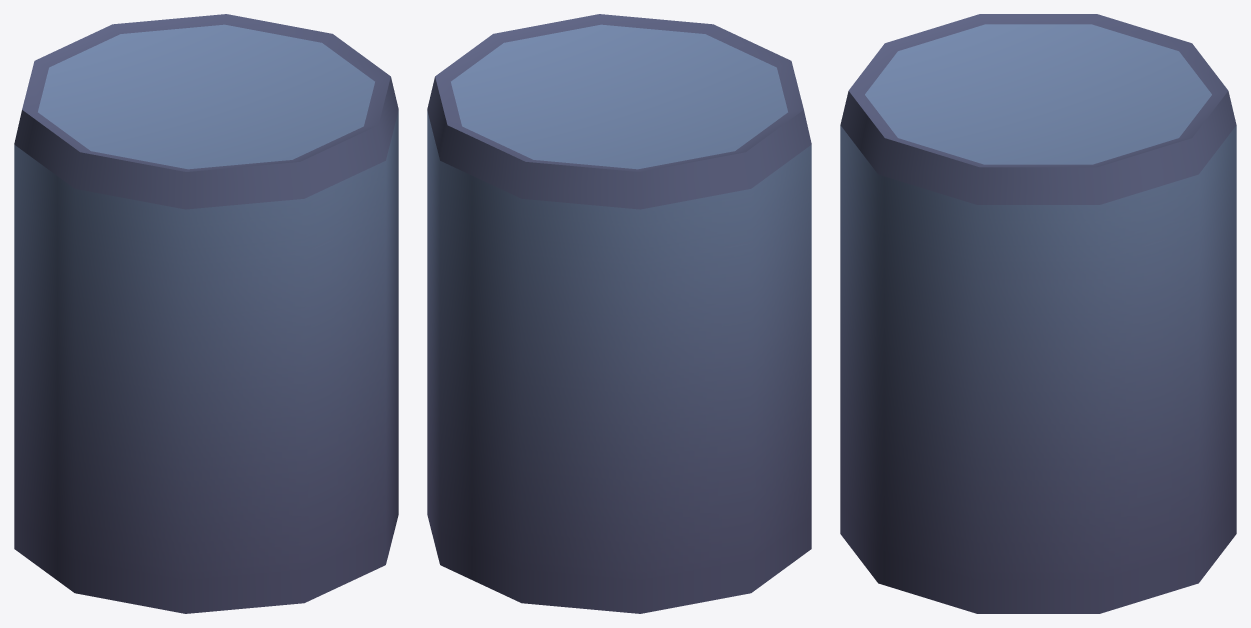
Rendered from can_blue.fbx.
3 views of the same model, side by side, from view 1: azimuth 30°, elevation 25°; view 2: azimuth 150°, elevation 25°; view 3: azimuth 270°, elevation 25° (orthographic).
Parts seen in each view (by area): view 1: can_blue; view 2: can_blue; view 3: can_blue.
Part boxes in pixels (left/top/right/bottom): can_blue: left=14, top=14, right=398, bottom=613; can_blue: left=427, top=14, right=811, bottom=613; can_blue: left=840, top=14, right=1236, bottom=613.
Bounding box in the file's own units: 104 × 134 × 109.
